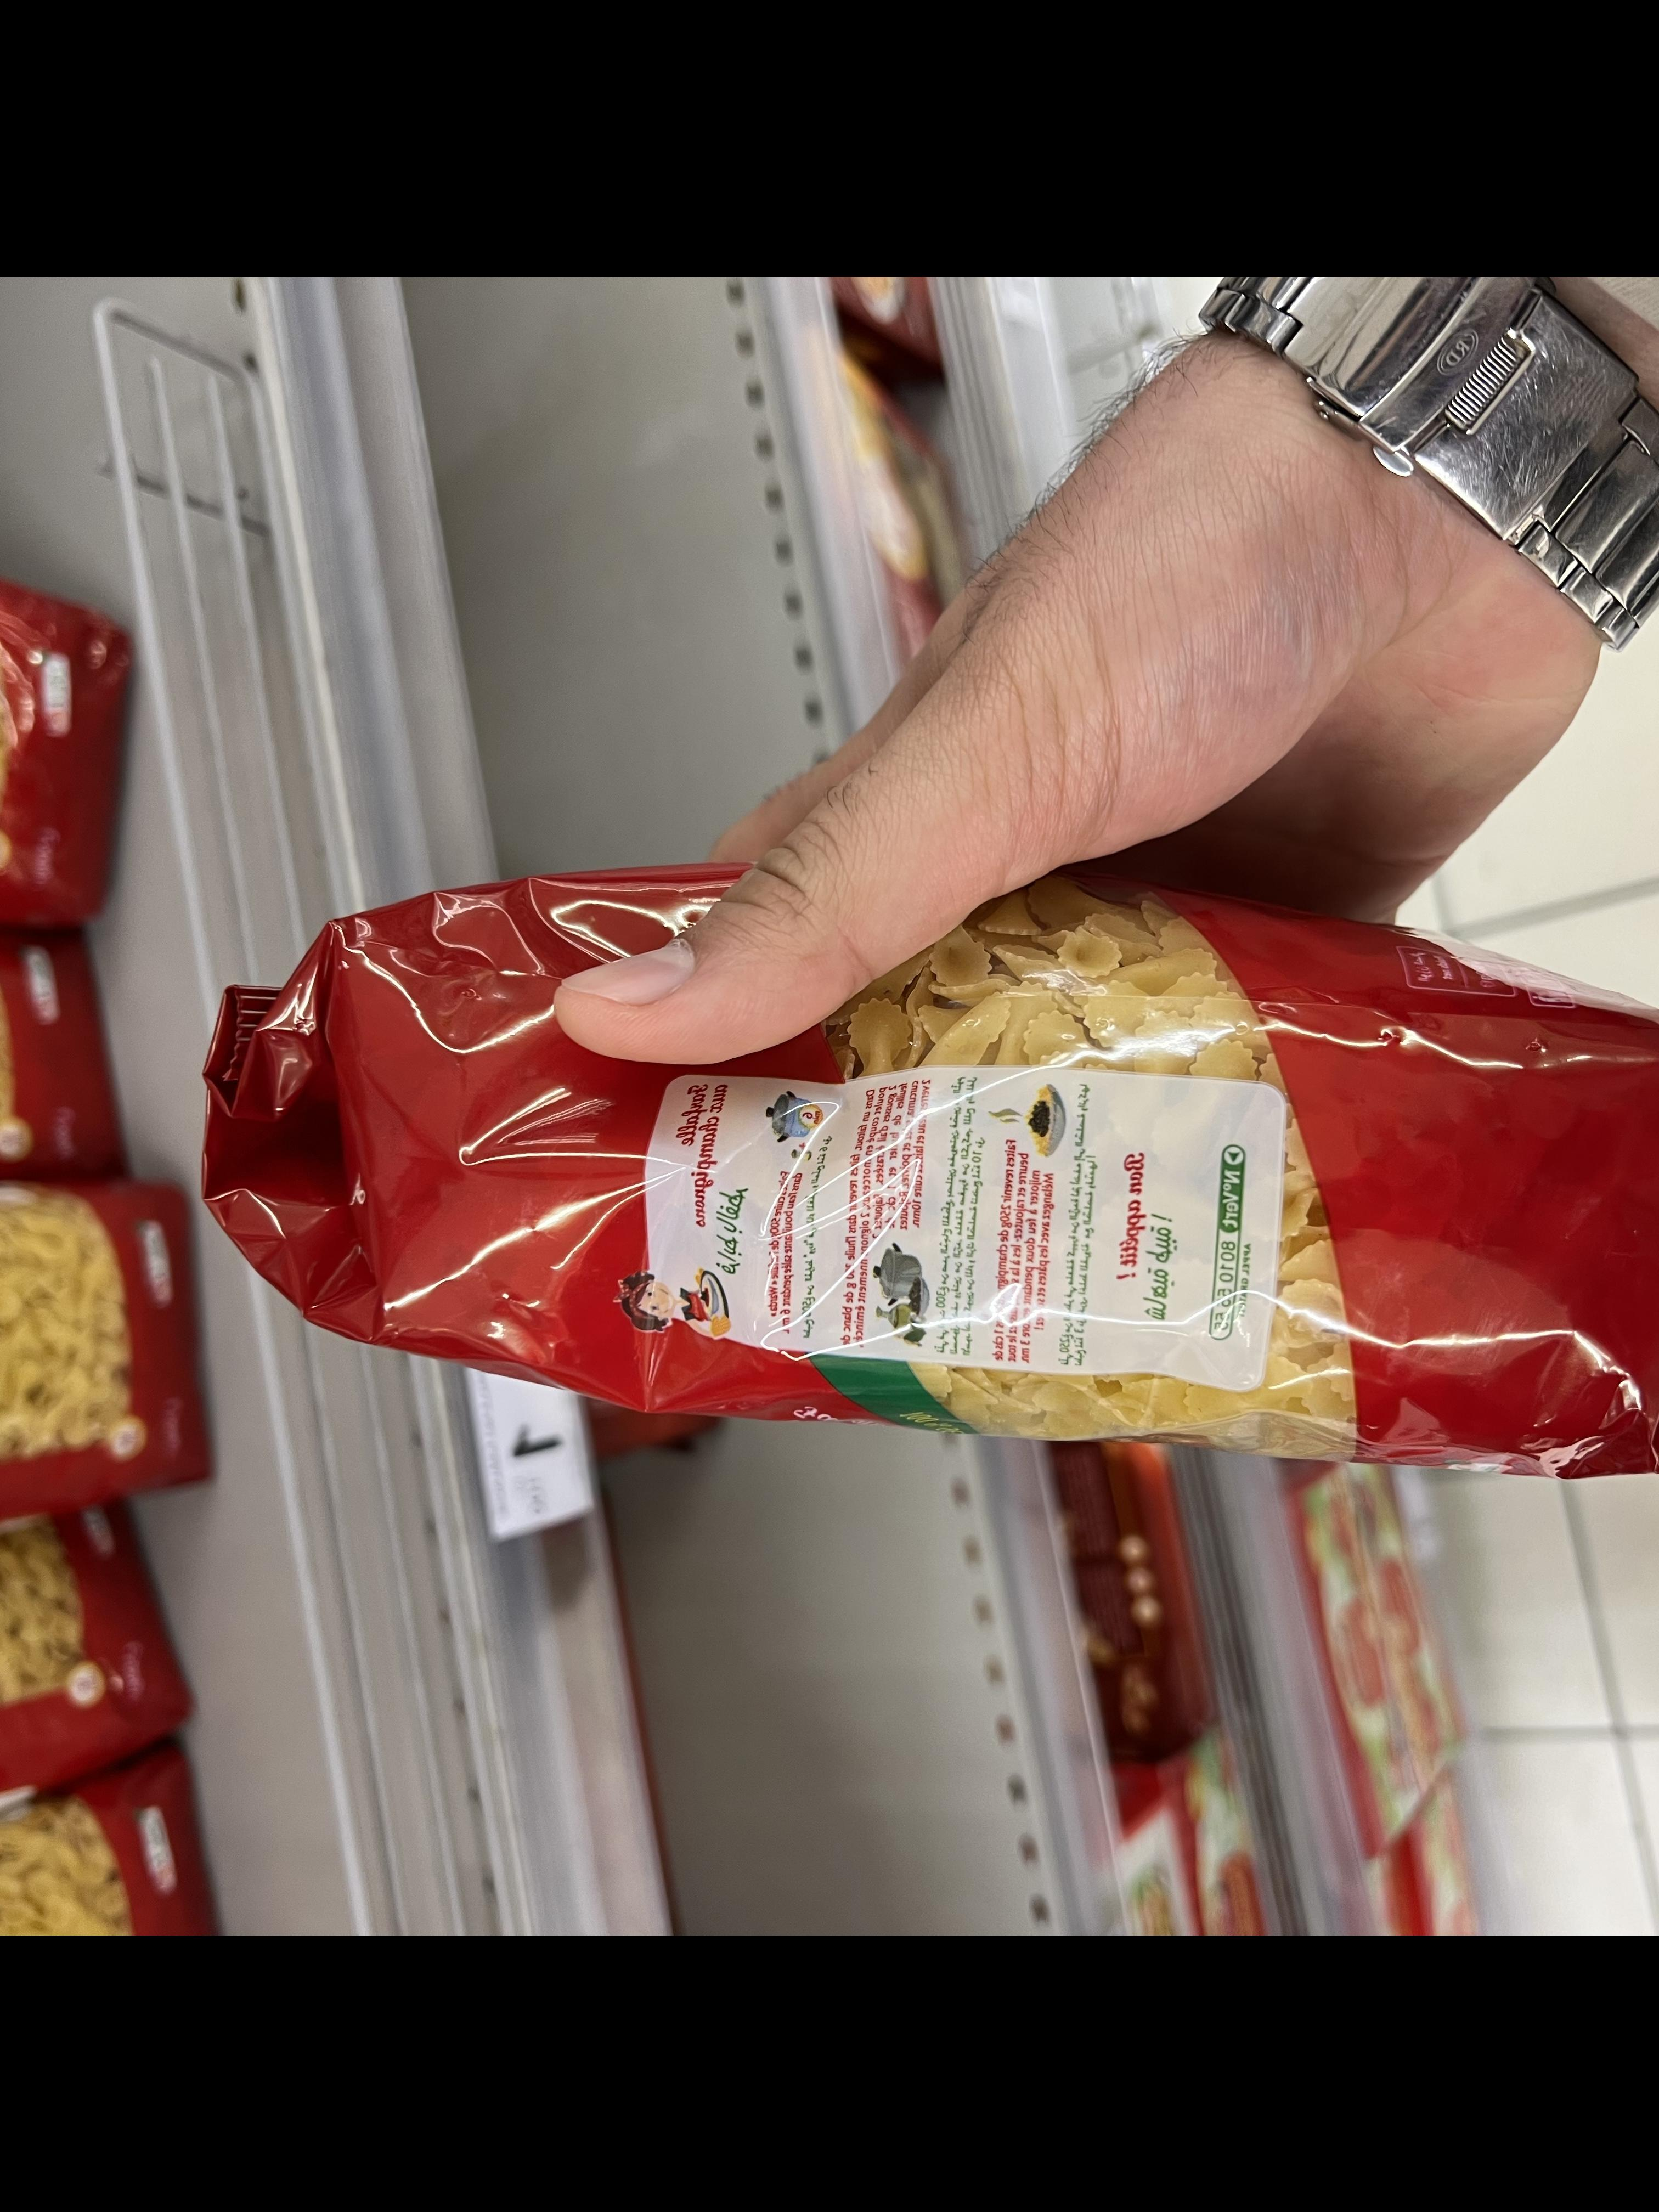Papillon: (0, 592, 566, 862)
